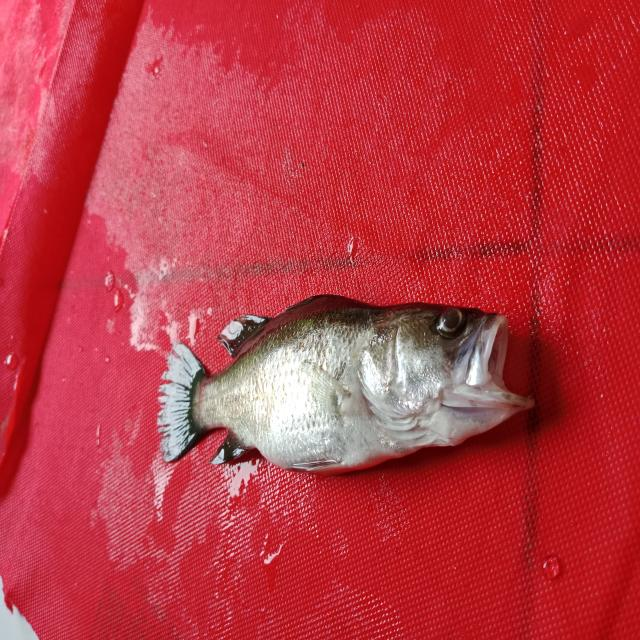ikan: (143, 277, 542, 484)
